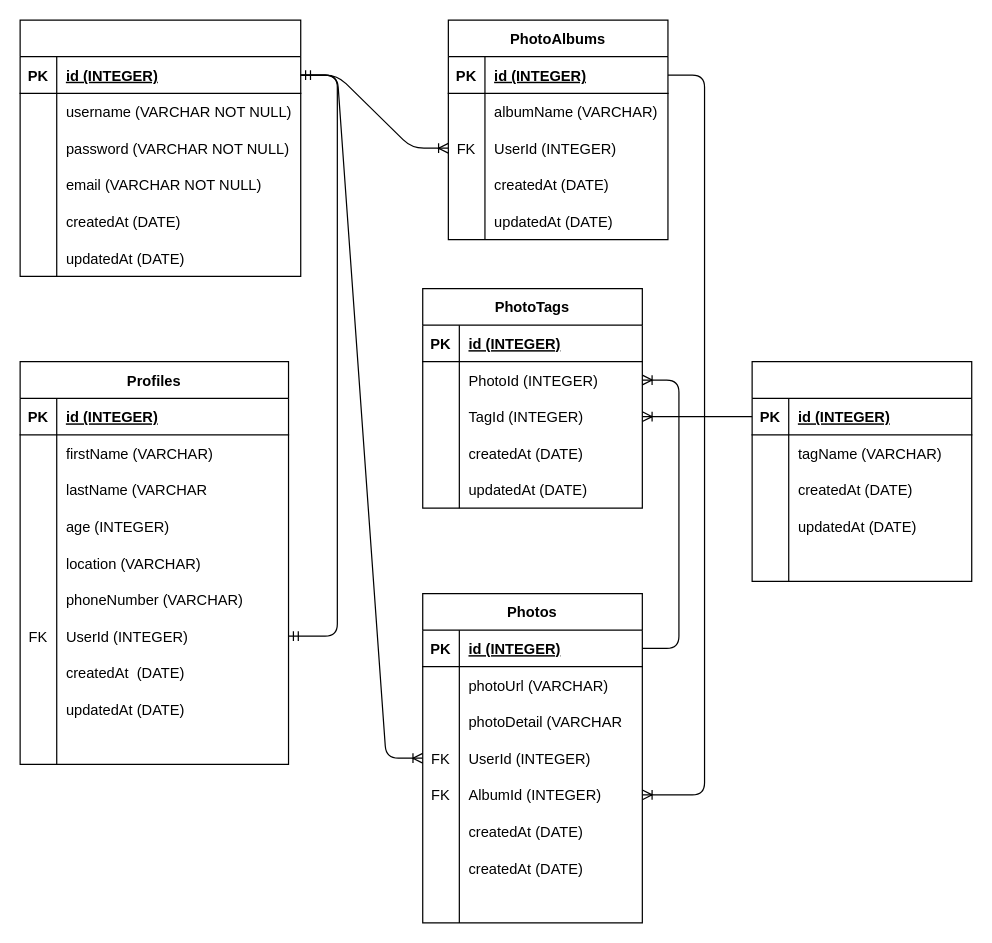
This 992x943 diagram has some shape labels left out. The shapes that lost their labels are listed below. From the top down, each one's box as (x1, y1, x2, y2) in pixels, then its label:
(19, 19, 301, 276): Users
(751, 361, 972, 581): Tags
